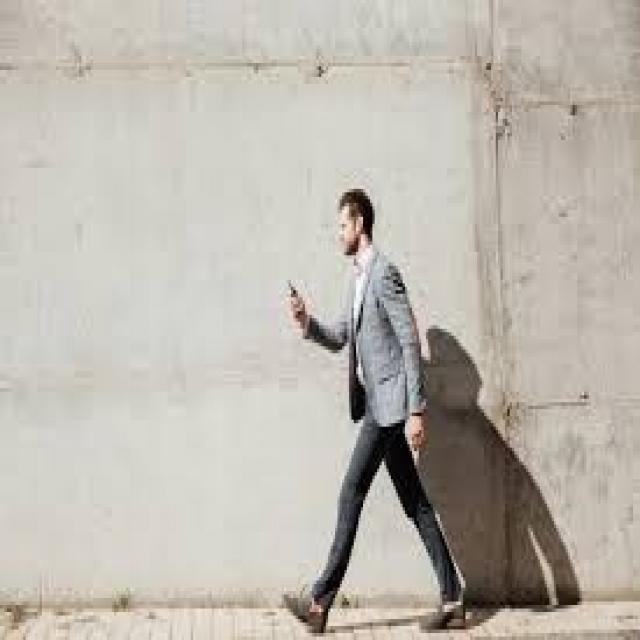walking: (279, 178, 467, 632)
